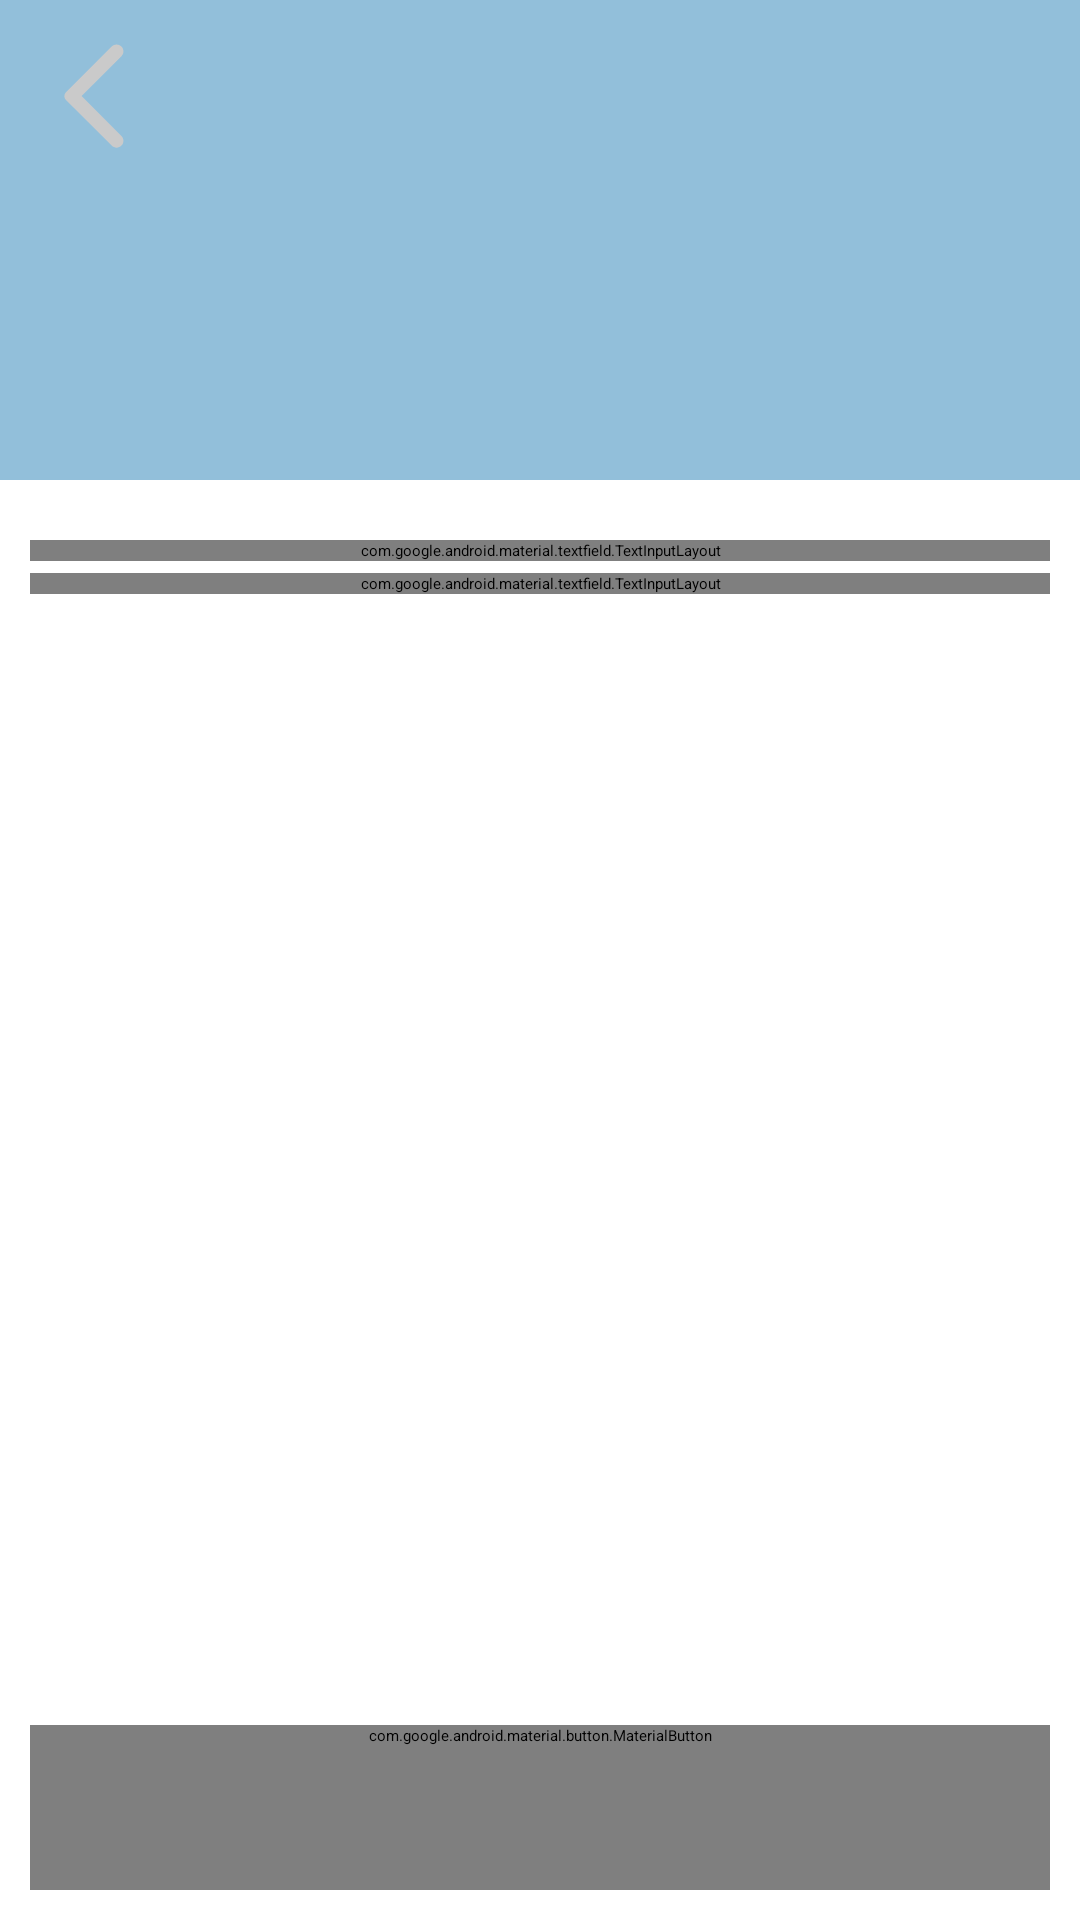

Locate icon controls on the screen. Image size 1080px x 1920px, boxes as [x1=x1, y1=y1, x2=x2, y2=y2].
back: [x1=64, y1=44, x2=123, y2=148]
